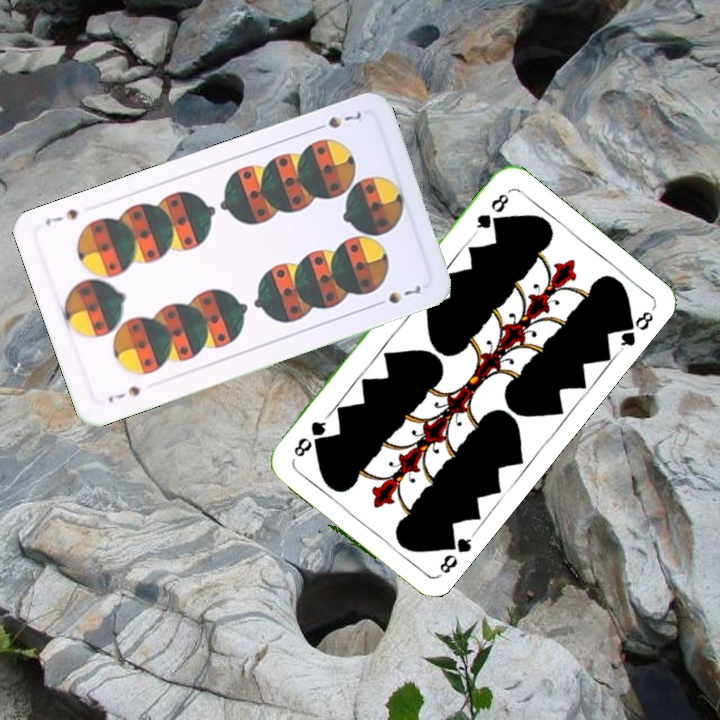G8: (433, 531, 476, 580), (470, 189, 512, 237)
S7: (309, 108, 365, 133), (104, 382, 143, 405)
